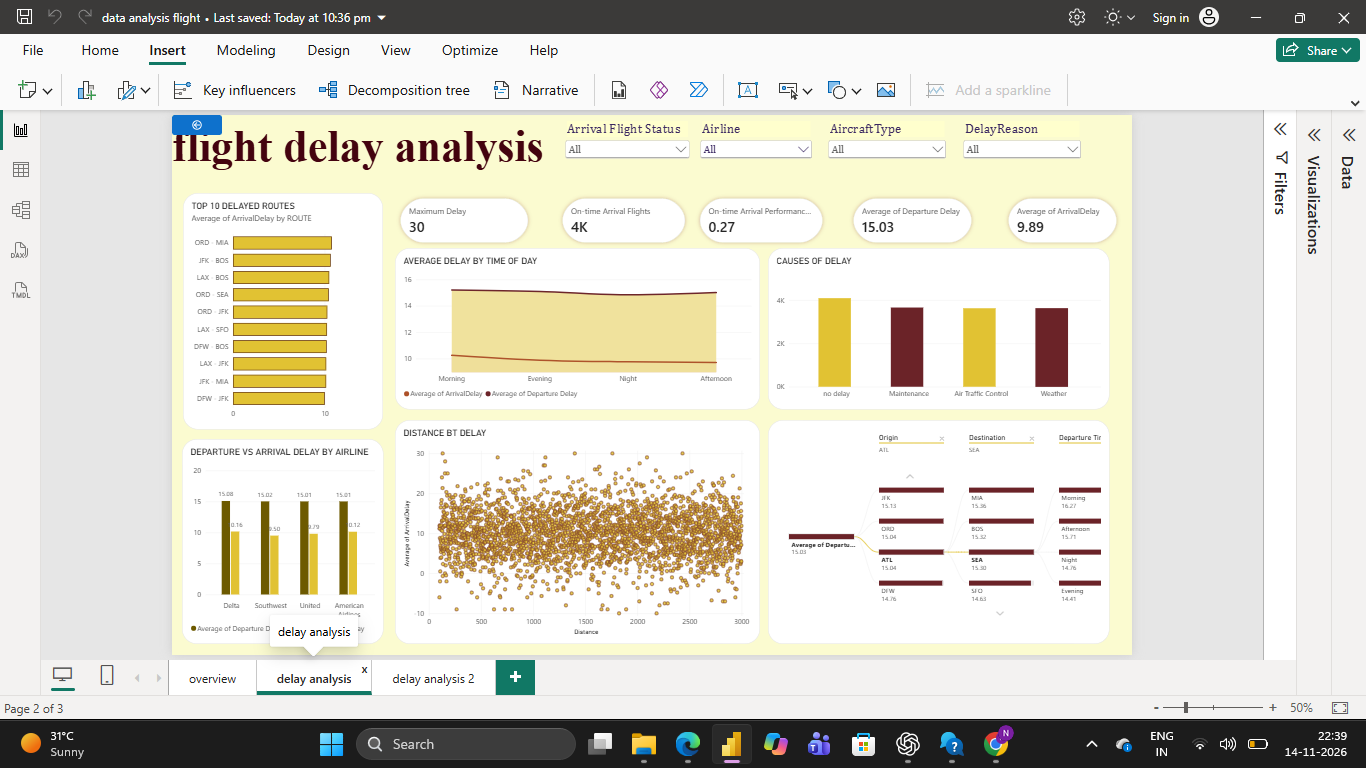

Layout of this report page (visuals, bound fields, positions):
{"tool":"powerbi","page":{"name":"delay analysis","canvas":[1920,1080],"ordinal":1},"visuals":[{"type":"clusteredColumnChart","title":"DEPARTURE VS ARRIVAL DELAY BY AIRLINE","fields":{"Category":["flight_delays1.Airline"],"Y":["Avg(flight_delays1.Departure Delay)","Avg(flight_delays1.ArrivalDelay)"]},"box":[20,647.5,402.5,410],"z":0},{"type":"lineChart","title":"AVERAGE DELAY BY TIME OF DAY","fields":{"Category":["flight_delays1.Departure Time Category"],"Y":["Avg(flight_delays1.ArrivalDelay)","Avg(flight_delays1.Departure Delay)"]},"box":[445,265,730,322.5],"z":1000},{"type":"clusteredBarChart","title":"TOP 10 DELAYED ROUTES","fields":{"Category":["flight_delays1.ROUTE"],"Y":["Avg(flight_delays1.DelayMinutes)"]},"box":[22.5,155,400,472.5],"z":2000},{"type":"scatterChart","title":"DISTANCE BT DELAY","fields":{"X":["flight_delays1.Distance"],"Y":["flight_delays1.DelayMinutes"]},"box":[445,610,730,447.5],"z":3000},{"type":"decompositionTreeVisual","fields":{"Analyze":["Avg(flight_delays1.Departure Delay)"],"ExplainBy":["flight_delays1.Origin","flight_delays1.Destination","flight_delays1.Departure Time Category"]},"box":[1192.5,610,682.5,447.5],"z":4000},{"type":"columnChart","title":"CAUSES OF DELAY","fields":{"Category":["flight_delays1.Delay Reason Corrected"],"Y":["flight_delays1.Total Flights"]},"box":[1192.5,265,682.5,322.5],"z":5000},{"type":"cardVisual","fields":{"Data":["Avg(flight_delays1.ArrivalDelay)"]},"box":[1662.5,155,238,110],"z":6000},{"type":"cardVisual","fields":{"Data":["Avg(flight_delays1.Departure Delay)"]},"box":[1352.5,155,258,110],"z":7000},{"type":"cardVisual","fields":{"Data":["flight_delays1.On-time Arrival Flights","flight_delays1.On-time Arrival Performance %"]},"box":[770,155,542,110],"z":8000},{"type":"cardVisual","fields":{"Data":["flight_delays1.Maximum Delay"]},"box":[445,155,277.5,110],"z":9000},{"type":"textbox","box":[0,12.5,770,107.5],"z":10000},{"type":"slicer","fields":{"Values":["flight_delays1.Airline"]},"box":[1052.5,12.5,232.5,82.5],"z":11000},{"type":"slicer","fields":{"Values":["flight_delays1.AircraftType"]},"box":[1307.5,12.5,245,82.5],"z":12000},{"type":"slicer","fields":{"Values":["flight_delays1.DelayReason"]},"box":[1577.5,12.5,245,82.5],"z":13000},{"type":"slicer","fields":{"Values":["flight_delays1.Arrival Flight Status"]},"box":[782.5,12.5,257.5,82.5],"z":14000},{"type":"actionButton","box":[0,0,100,40],"z":15000}]}

Visuals, with their boxes on the page's 1920x1080 design canvas (x1, y1, x2, y2). These are canvas units, not pixel positions in the 1366x768 screenshot, which may show the page scaled, cropped or inside an application window:
"DEPARTURE VS ARRIVAL DELAY BY AIRLINE" clusteredColumnChart: <box>20,648,422,1058</box>
"AVERAGE DELAY BY TIME OF DAY" lineChart: <box>445,265,1175,588</box>
"TOP 10 DELAYED ROUTES" clusteredBarChart: <box>22,155,422,628</box>
"DISTANCE BT DELAY" scatterChart: <box>445,610,1175,1058</box>
decompositionTreeVisual - Avg(flight_delays1.Departure Delay) x flight_delays1.Origin: <box>1192,610,1875,1058</box>
"CAUSES OF DELAY" columnChart: <box>1192,265,1875,588</box>
cardVisual - Avg(flight_delays1.ArrivalDelay): <box>1662,155,1900,265</box>
cardVisual - Avg(flight_delays1.Departure Delay): <box>1352,155,1610,265</box>
cardVisual - flight_delays1.On-time Arrival Flights x flight_delays1.On-time Arrival Performance %: <box>770,155,1312,265</box>
cardVisual - flight_delays1.Maximum Delay: <box>445,155,722,265</box>
textbox: <box>0,12,770,120</box>
slicer - flight_delays1.Airline: <box>1052,12,1285,95</box>
slicer - flight_delays1.AircraftType: <box>1308,12,1552,95</box>
slicer - flight_delays1.DelayReason: <box>1578,12,1822,95</box>
slicer - flight_delays1.Arrival Flight Status: <box>782,12,1040,95</box>
actionButton: <box>0,0,100,40</box>
